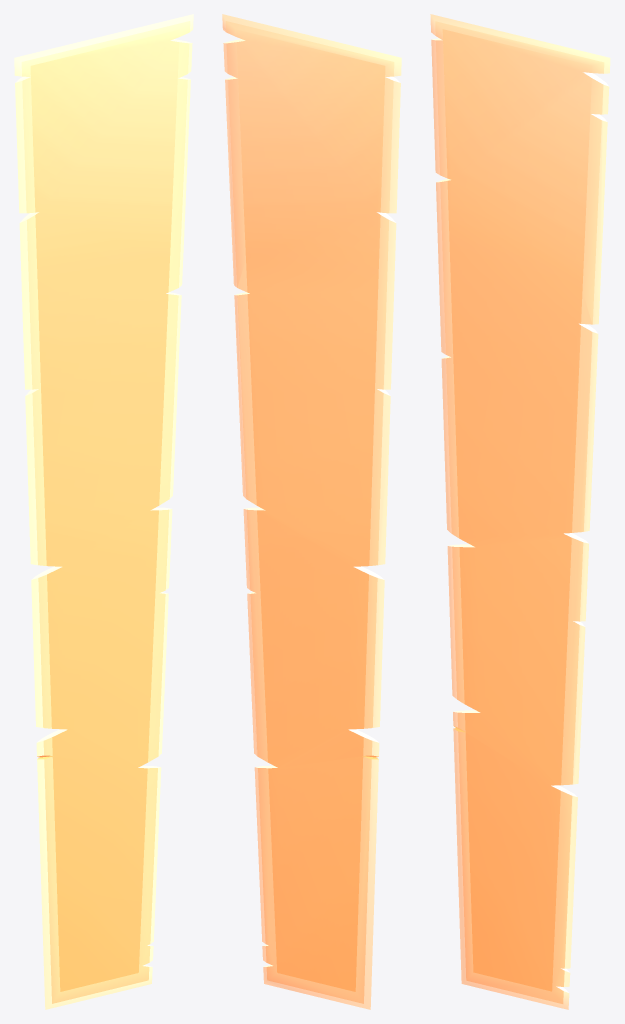
File: wood_blade_scratched_079.glb
3 views of the same model, side by side, from view 1: azimuth 30°, elevation 25°; view 2: azimuth 150°, elevation 25°; view 3: azimuth 330°, elevation 25° (orthographic).
Parts seen in each view (by area): view 1: wood_blade_scratched.079; view 2: wood_blade_scratched.079; view 3: wood_blade_scratched.079.
Boxes of the visible parts, x1,y1,x2,y2 form: wood_blade_scratched.079: (14, 14, 193, 1009); wood_blade_scratched.079: (222, 14, 401, 1009); wood_blade_scratched.079: (430, 14, 610, 1009).
Size of the model in its own units: 2.19 by 11.21 by 0.0882.
1 material, 1 textured.
